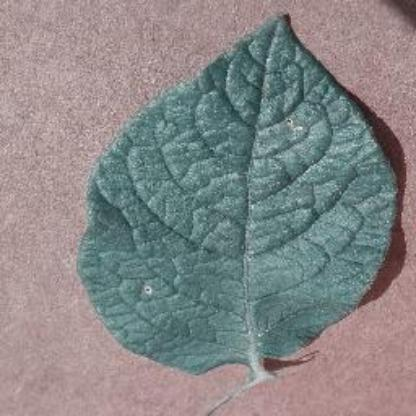Healthy-plant: (75, 11, 404, 388)
